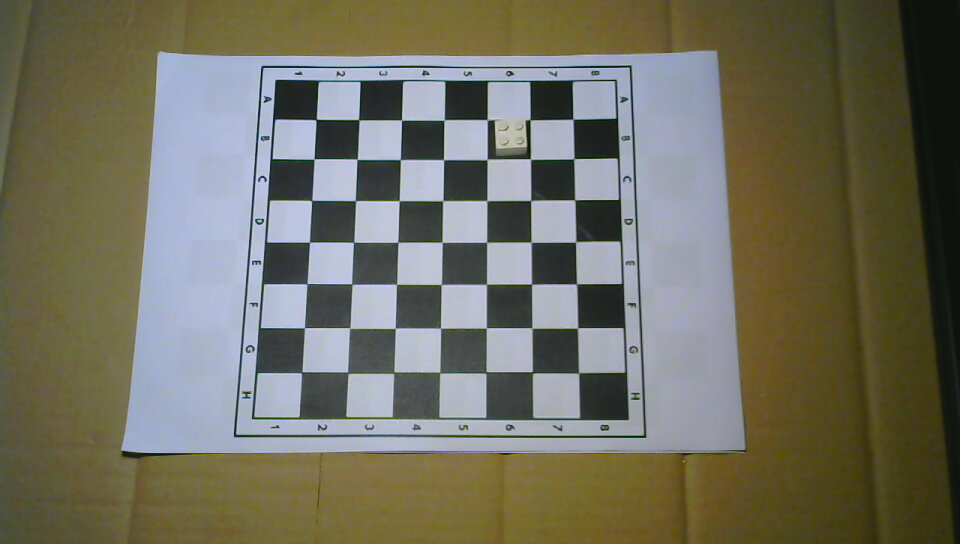wp: (492, 118, 528, 156)
